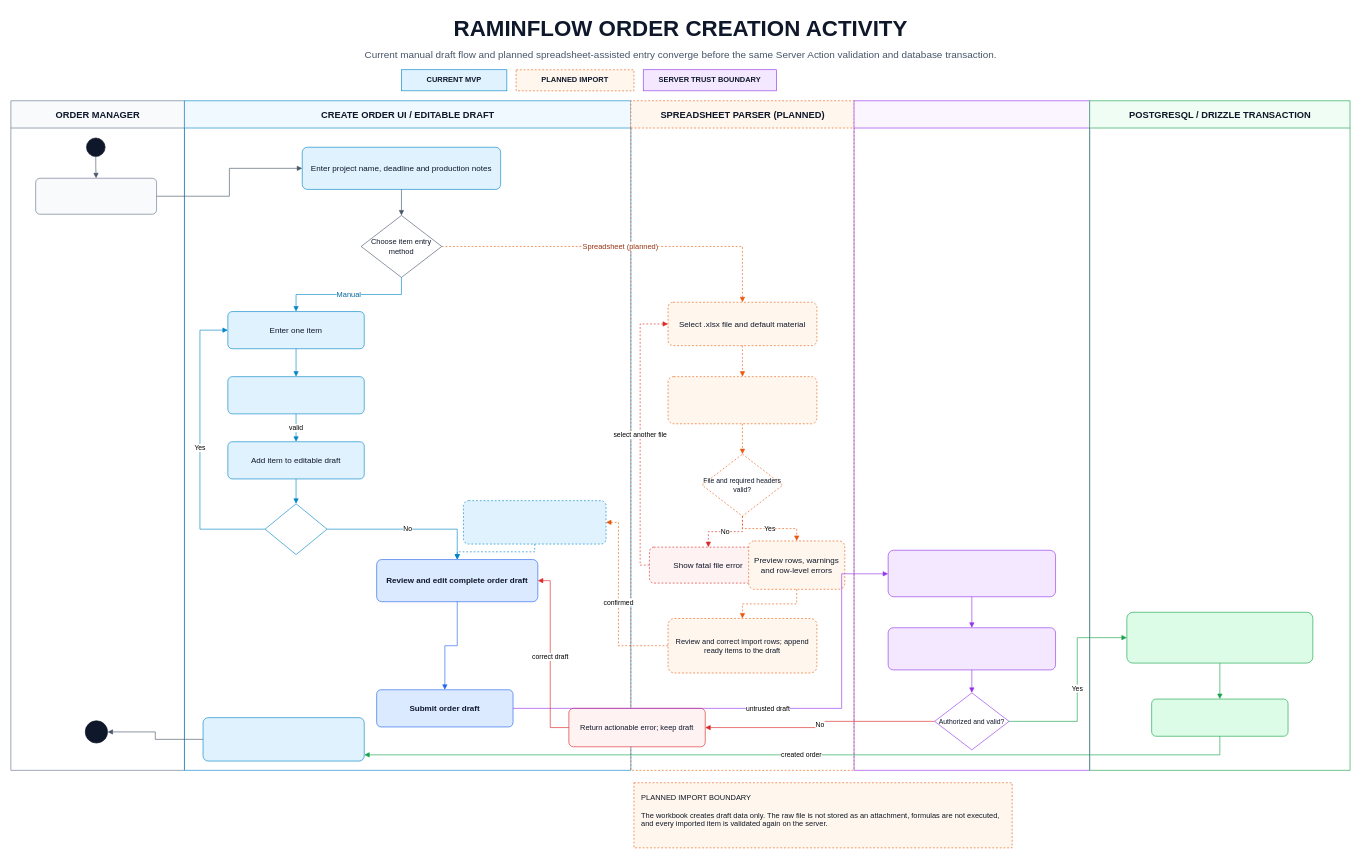
The diagram is 1361 pixels wide and 859 high, and some of its shapes have lost their labels. Here are the shapes that lost their labels. From the top down, the box of each, then its label:
(35, 178, 157, 214): Open Create Order
(227, 376, 364, 414): Run browser field validation
(667, 376, 817, 424): Detect headers, map supported columns and normalize rows
(853, 100, 1090, 770): SERVER ACTION
(264, 503, 327, 555): Add another item?
(463, 500, 606, 544): Add normalized rows to the same editable draft
(888, 550, 1056, 597): Load current active user and verify create permission
(888, 627, 1056, 670): Validate header and every item again
(1126, 612, 1313, 663): Transaction: reserve order number, insert order, insert all items
(1151, 698, 1288, 736): Commit atomically
(202, 717, 364, 761): Show created order number and View order link
